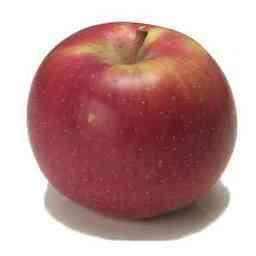apple: (24, 22, 237, 221)
